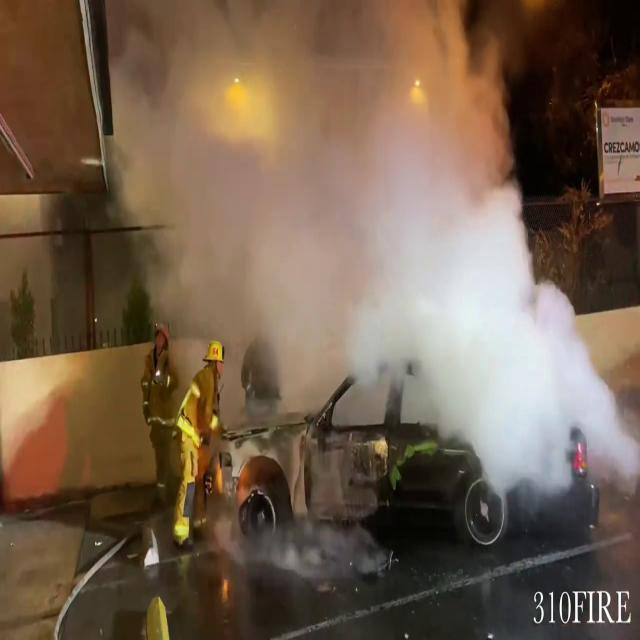Smoke: (41, 0, 629, 524)
